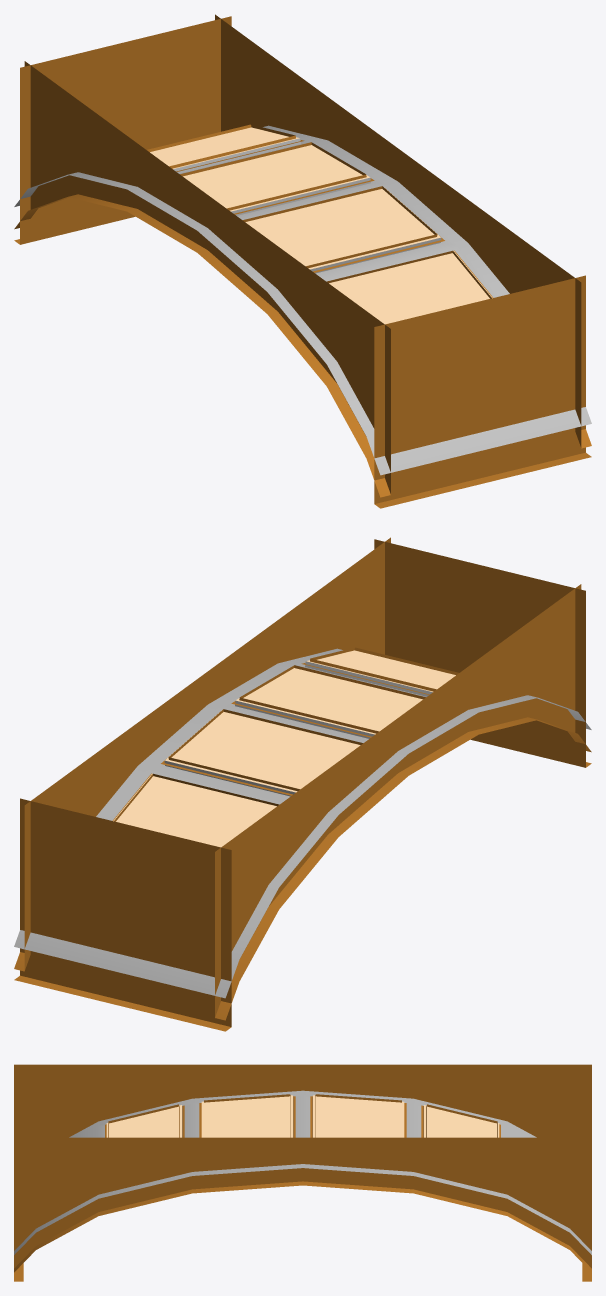
Rendered from ceilingSkylight.glb.
3 views of the same model, one above another, from view 1: azimuth 30°, elevation 25°; view 2: azimuth 150°, elevation 25°; view 3: azimuth 270°, elevation 25° (orthographic). The views are drawn at different scales.
Visible parts, largest first — view 1: ceilingSkylight; view 2: ceilingSkylight; view 3: ceilingSkylight.
Part boxes in pixels (box(x1,y1,x2,y2)): ceilingSkylight: box(14, 14, 591, 508); ceilingSkylight: box(14, 537, 591, 1031); ceilingSkylight: box(14, 1064, 591, 1281).
Size of the model in its own units: 20 by 16 by 60.
